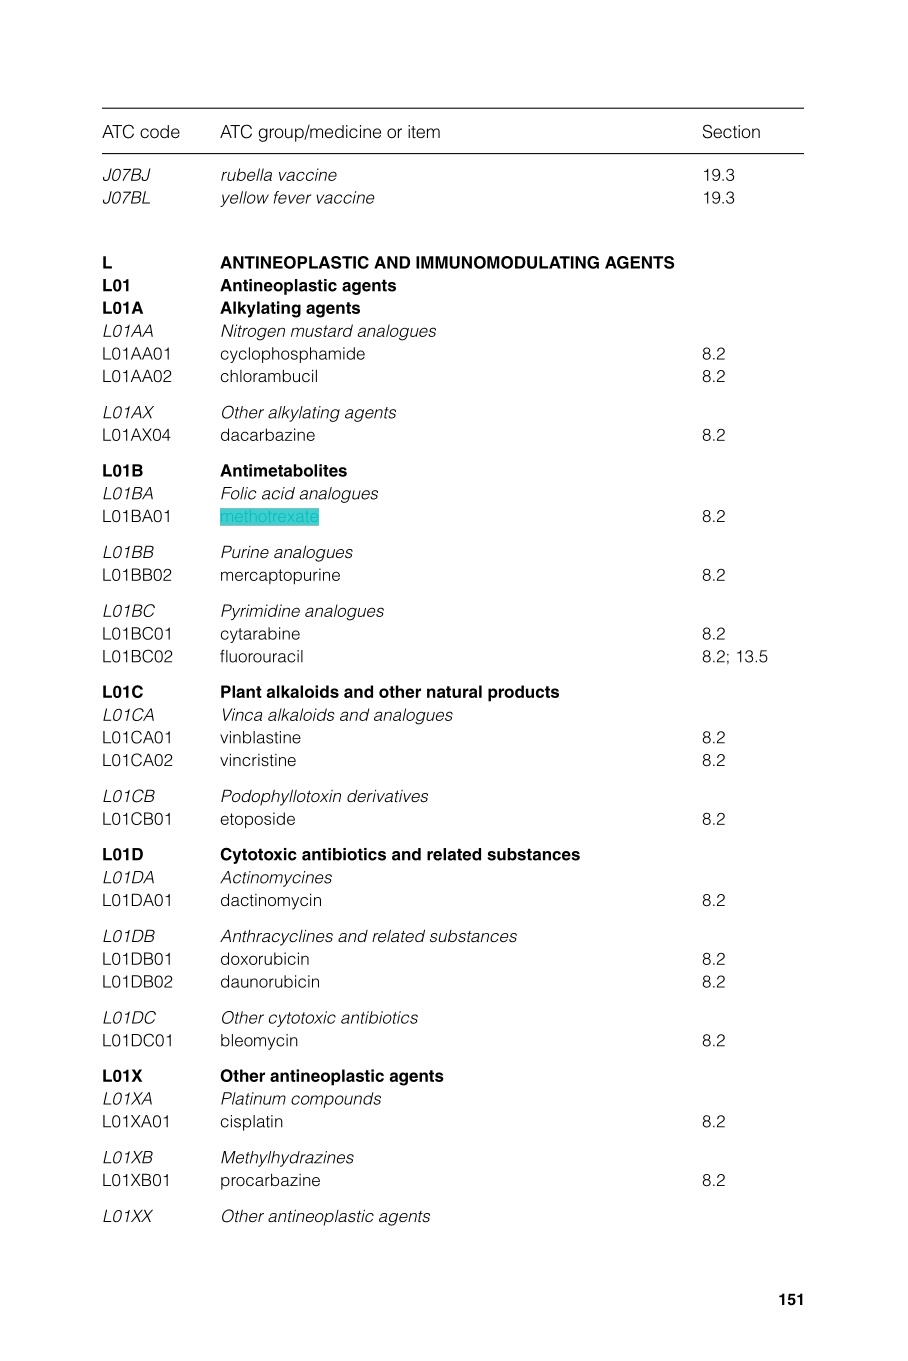partial_lined: (100, 106, 805, 1229)
